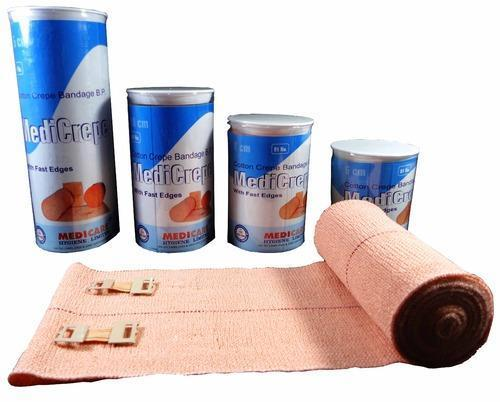bandage: (8, 198, 493, 391)
